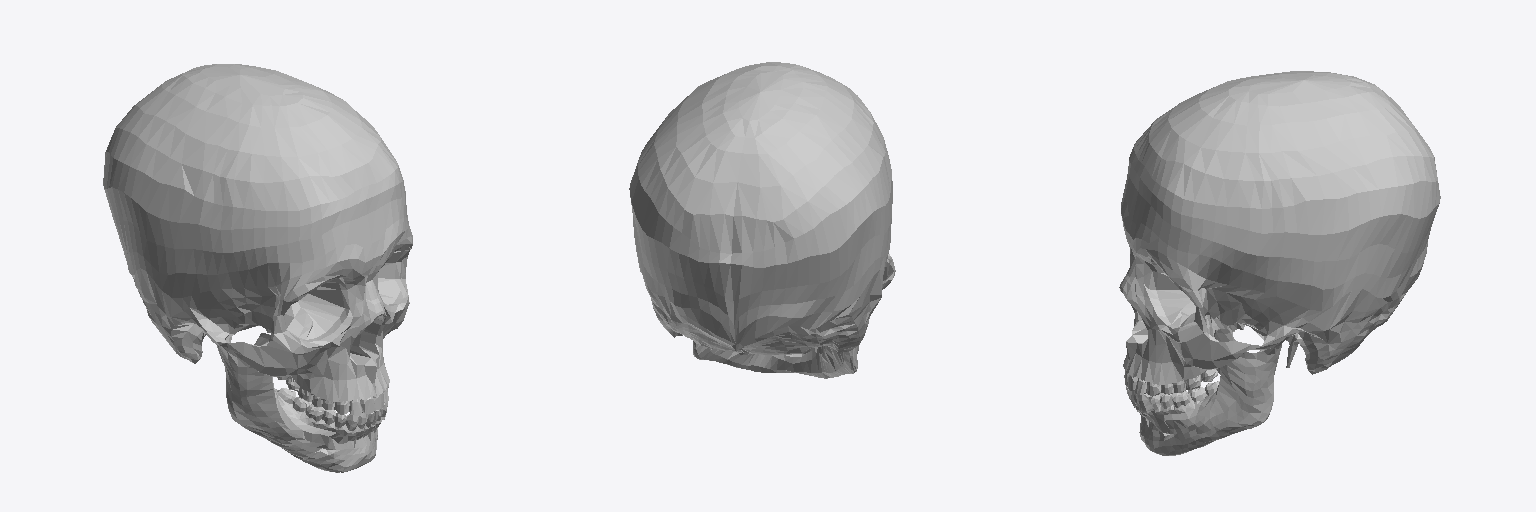
Rendered from skull.obj.
3 renders of one model, left to right at view 1: azimuth 30°, elevation 25°; view 2: azimuth 150°, elevation 25°; view 3: azimuth 270°, elevation 25°, orthographic.
Parts seen in each view (by area): view 1: uteeth; view 2: uteeth; view 3: uteeth.
Part boxes in pixels (x1,y1,x2,y2): uteeth: (103, 64, 412, 472); uteeth: (629, 62, 895, 378); uteeth: (1119, 71, 1440, 455).
Size of the model in its own units: 1.03 by 1.44 by 1.21.